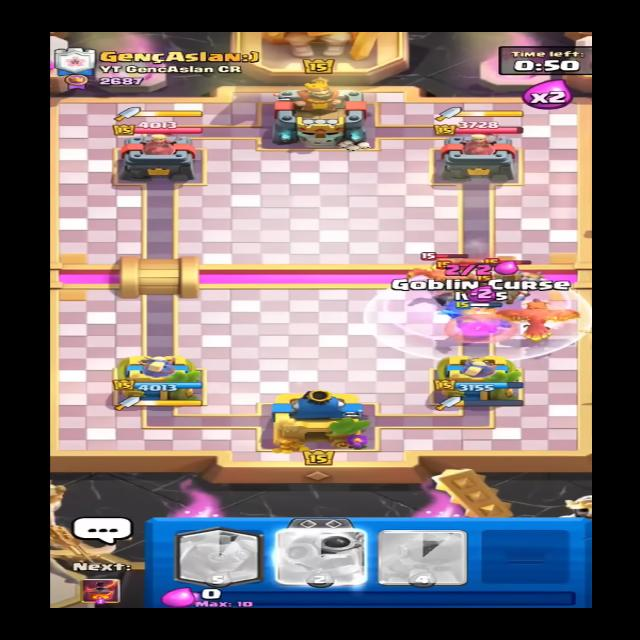Pheonix: (398, 262, 502, 301)
Prince: (487, 255, 555, 302)
